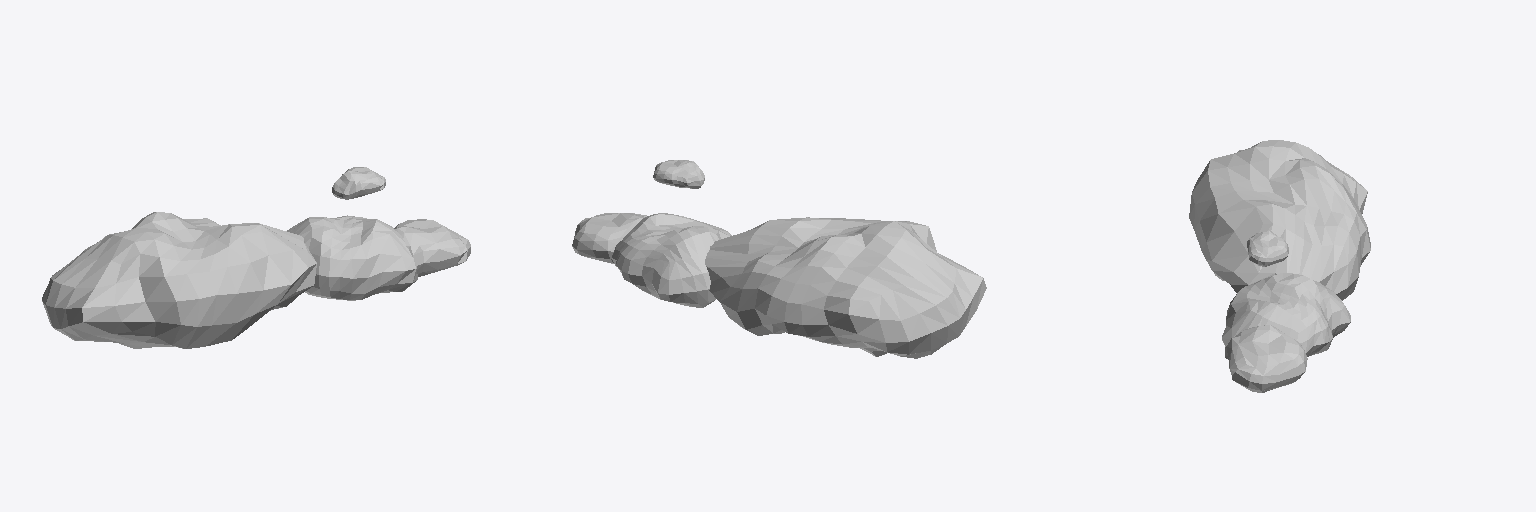
File: cloud.obj
3 renders of one model, left to right at view 1: azimuth 30°, elevation 25°; view 2: azimuth 150°, elevation 25°; view 3: azimuth 270°, elevation 25°, orthographic.
Parts seen in each view (by area): view 1: cloud.001; view 2: cloud.001; view 3: cloud.001.
Boxes of the visible parts, <box> form: cloud.001: <box>42,167,470,348</box>; cloud.001: <box>572,160,986,358</box>; cloud.001: <box>1189,140,1370,392</box>.
Bounding box in the file's own units: 69.76 × 22.26 × 27.3.